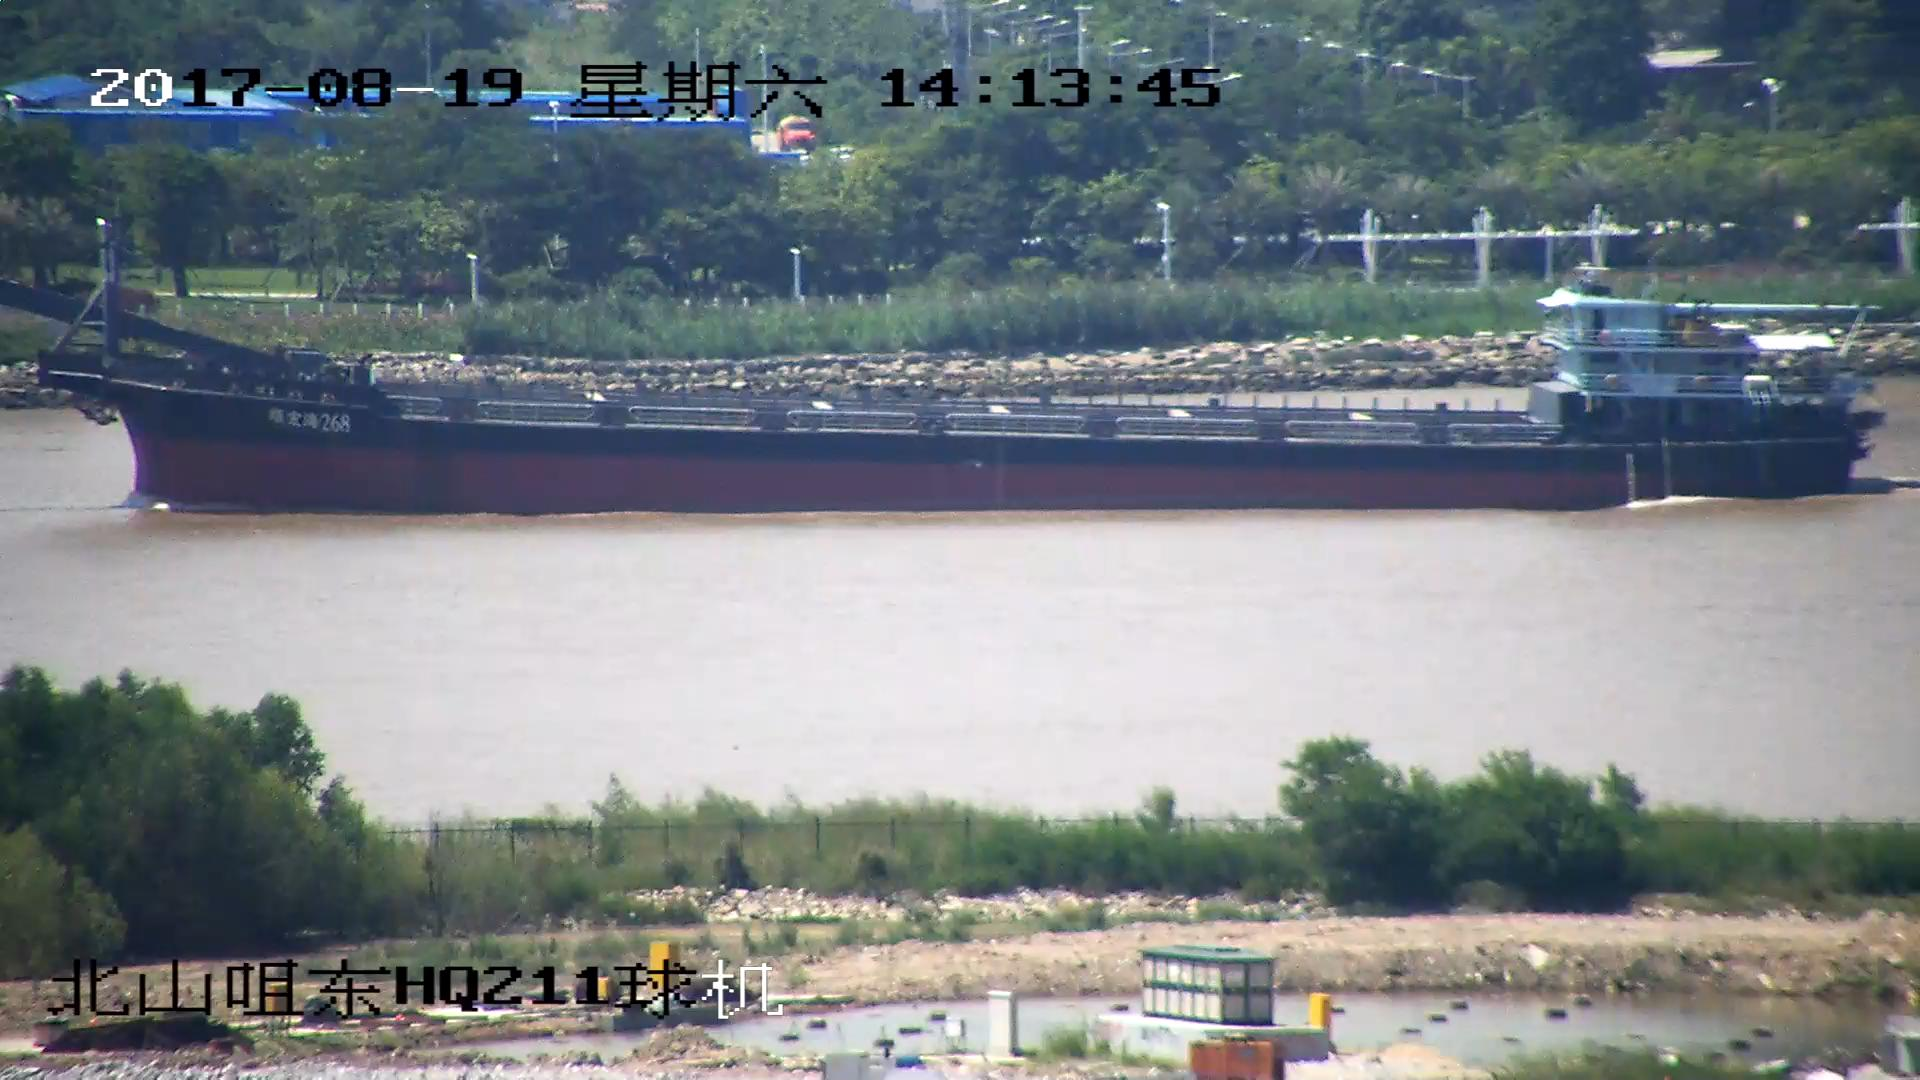bulk cargo carrier: (1, 229, 1887, 518)
